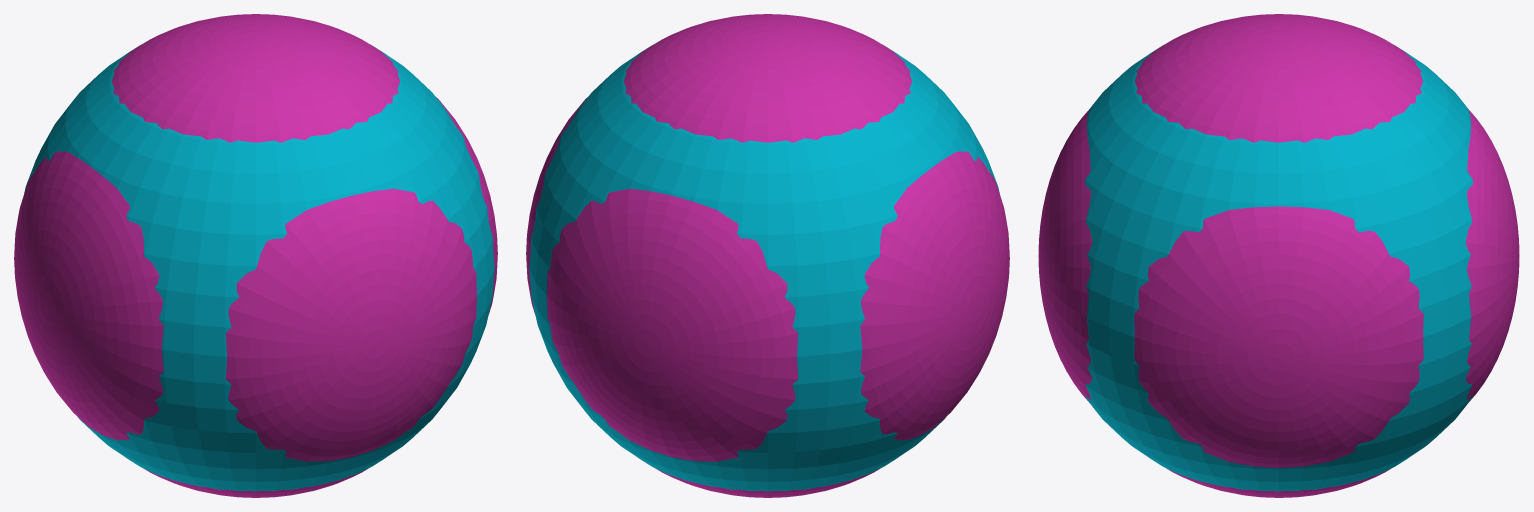
File: Terrific Amur-Waasa.glb
3 views of the same model, side by side, from view 1: azimuth 30°, elevation 25°; view 2: azimuth 150°, elevation 25°; view 3: azimuth 270°, elevation 25° (orthographic).
Parts seen in each view (by area): view 1: Mesh_Mesh_head_geo.001_lambert2SG.001; view 2: Mesh_Mesh_head_geo.001_lambert2SG.001; view 3: Mesh_Mesh_head_geo.001_lambert2SG.001.
Part boxes in pixels (x1=…): Mesh_Mesh_head_geo.001_lambert2SG.001: x1=14, y1=14, x2=497, y2=497; Mesh_Mesh_head_geo.001_lambert2SG.001: x1=526, y1=14, x2=1009, y2=497; Mesh_Mesh_head_geo.001_lambert2SG.001: x1=1038, y1=14, x2=1519, y2=497.
Bounding box in the file's own units: 20 × 20 × 20.
